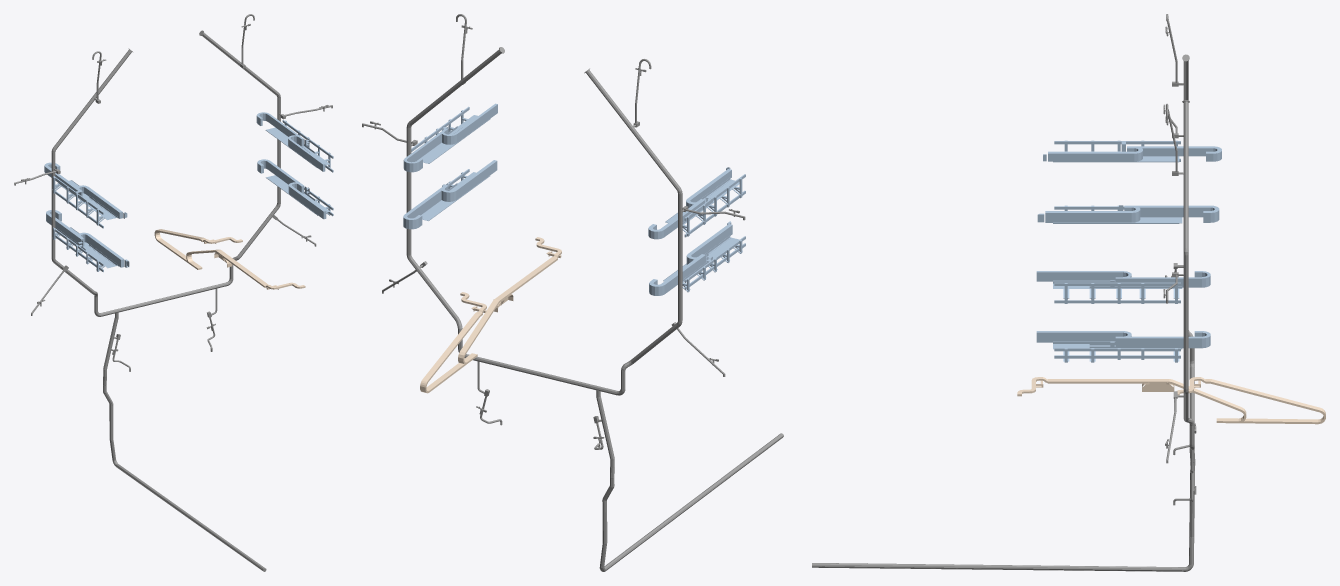
File: Serv-Muon-SW-cut1.glb
The picture shows the model from 3 angles, left to right: view 1: azimuth 30°, elevation 25°; view 2: azimuth 150°, elevation 25°; view 3: azimuth 270°, elevation 25°; orthographic projection. The views are drawn at different scales.
Visible parts, largest first — view 1: Cabbles 2-cut1, Cabbles 3-cut1, Cabbles 1-cut1; view 2: Cabbles 2-cut1, Cabbles 3-cut1, Cabbles 1-cut1; view 3: Cabbles 2-cut1, Cabbles 3-cut1, Cabbles 1-cut1.
Boxes of the visible parts, x1,y1,x2,y2 form: Cabbles 2-cut1: [44, 112, 333, 272]; Cabbles 3-cut1: [14, 14, 332, 571]; Cabbles 1-cut1: [154, 229, 305, 289]; Cabbles 2-cut1: [403, 103, 745, 295]; Cabbles 3-cut1: [362, 14, 783, 571]; Cabbles 1-cut1: [420, 237, 561, 393]; Cabbles 2-cut1: [1036, 140, 1221, 362]; Cabbles 3-cut1: [812, 14, 1196, 571]; Cabbles 1-cut1: [1017, 377, 1325, 424].
Size of the model in its own units: 15.81 by 20.28 by 17.48.
